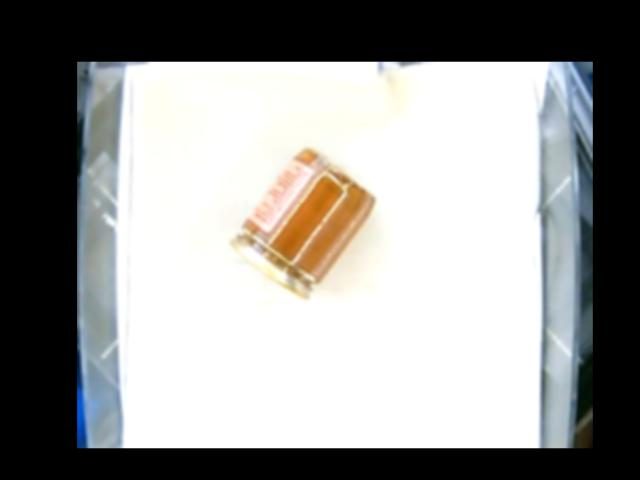Bottle: (228, 148, 374, 300)
